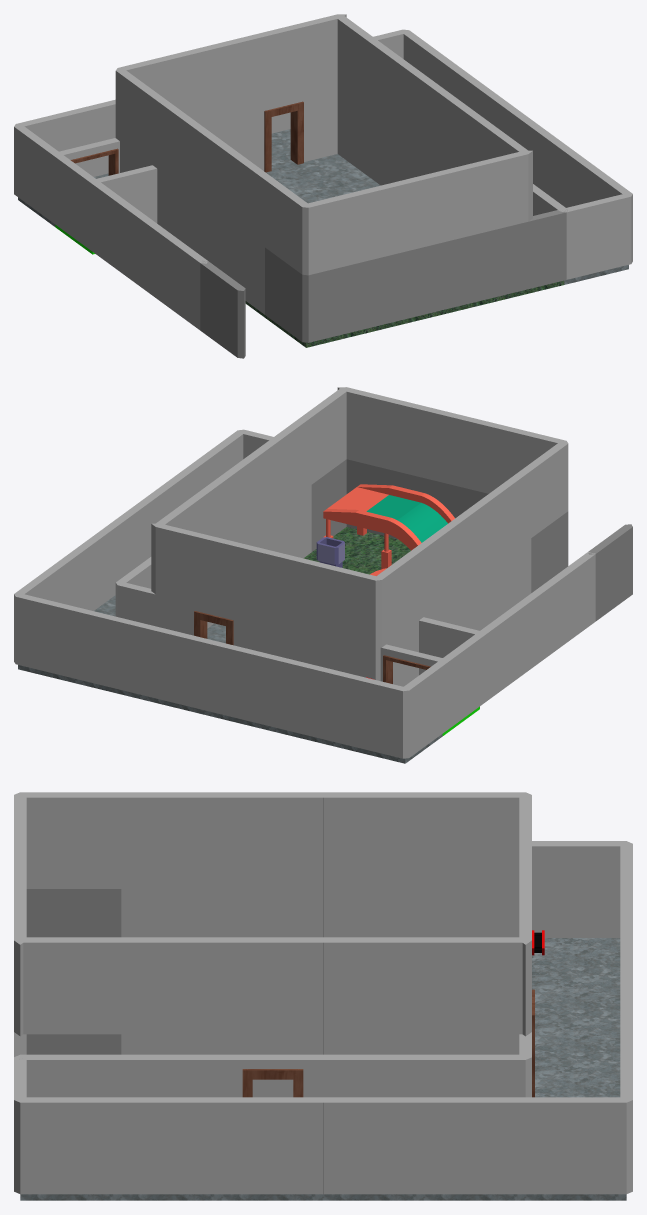
The model's file is Level_1_1_Unlocked.fbx.
The picture shows the model from 3 angles, top to bottom: view 1: azimuth 30°, elevation 25°; view 2: azimuth 150°, elevation 25°; view 3: azimuth 270°, elevation 25°; orthographic projection. The views are drawn at different scales.
Parts seen in each view (by area): view 1: mergedBlocks; view 2: mergedBlocks; view 3: mergedBlocks.
Boxes of the visible parts, x1=… form: mergedBlocks: x1=14, y1=14, x2=632, y2=358; mergedBlocks: x1=14, y1=387, x2=632, y2=763; mergedBlocks: x1=14, y1=792, x2=632, y2=1200.
Bounding box in the file's own units: 61.25 × 21 × 61.25.
Materials: 16 (4 with a texture image).
